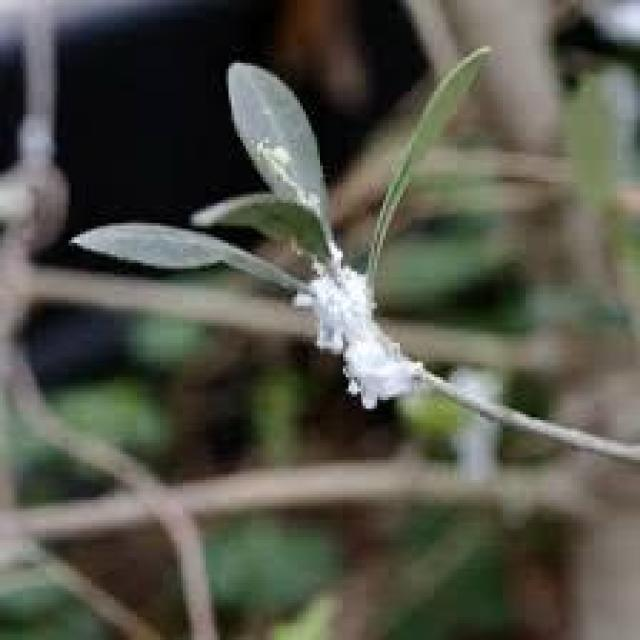Psyllid: (286, 249, 451, 409)
